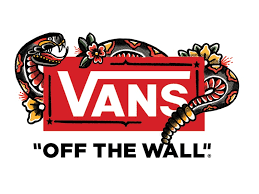vans: (56, 69, 191, 117)
